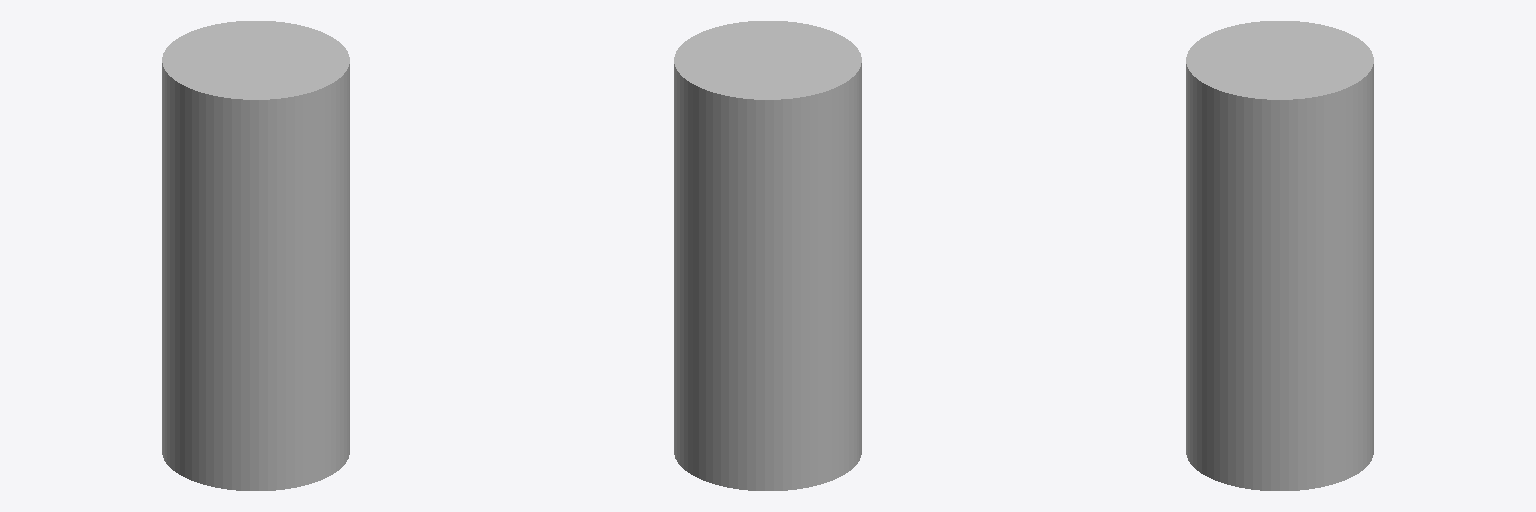
The model's file is mic_for_boolean.obj.
The picture shows the model from 3 angles: view 1: azimuth 30°, elevation 25°; view 2: azimuth 150°, elevation 25°; view 3: azimuth 270°, elevation 25°; orthographic projection.
Visible parts, largest first — view 1: MicForBoolean_Cylinder.4189; view 2: MicForBoolean_Cylinder.4189; view 3: MicForBoolean_Cylinder.4189.
Boxes of the visible parts, box(x1,y1,x2,y2) form: MicForBoolean_Cylinder.4189: box(162, 21, 349, 490); MicForBoolean_Cylinder.4189: box(674, 21, 861, 490); MicForBoolean_Cylinder.4189: box(1186, 21, 1373, 490).
Bounding box in the file's own units: 0.02 × 0.046 × 0.02.